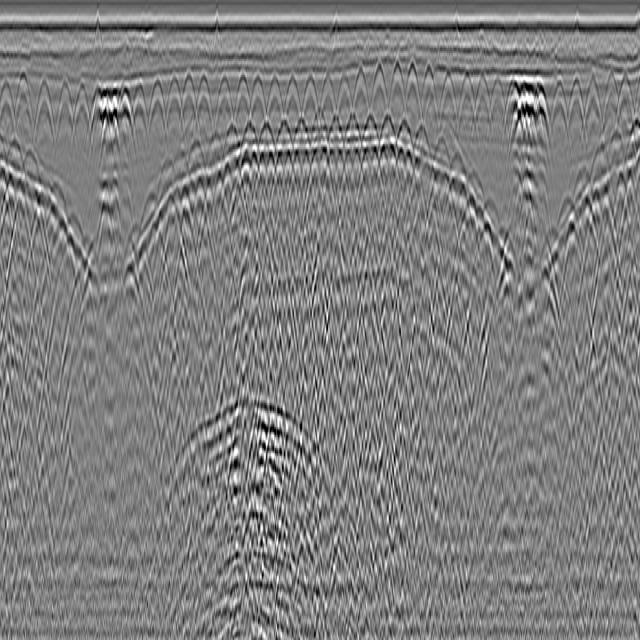hyperbola: (50, 74, 80, 175), (32, 76, 61, 175), (468, 70, 495, 152), (483, 72, 509, 151), (563, 72, 589, 149), (175, 70, 199, 149), (546, 76, 571, 151), (145, 77, 170, 151), (162, 70, 186, 144), (68, 80, 93, 151), (9, 71, 35, 139), (457, 75, 481, 146), (580, 71, 604, 141), (126, 81, 151, 148), (115, 82, 138, 153), (436, 66, 460, 133), (191, 70, 214, 138), (418, 62, 439, 133), (601, 72, 623, 139), (552, 191, 582, 240), (569, 167, 594, 221), (214, 68, 234, 131), (298, 74, 320, 130), (587, 142, 612, 191), (403, 60, 422, 121), (614, 71, 634, 128), (3, 133, 26, 181), (388, 59, 407, 116), (234, 71, 254, 125), (316, 74, 335, 130), (19, 147, 41, 194), (540, 223, 563, 266), (247, 71, 267, 120), (605, 126, 624, 174), (0, 80, 17, 133), (369, 64, 388, 111), (351, 65, 369, 114), (266, 72, 284, 120), (284, 73, 302, 120), (434, 134, 453, 176), (414, 122, 432, 158), (222, 124, 239, 162), (626, 114, 639, 163), (395, 116, 413, 150), (449, 148, 466, 184), (258, 114, 274, 151), (344, 110, 360, 147), (275, 118, 294, 149), (310, 108, 327, 142), (336, 70, 352, 106), (328, 109, 344, 144), (294, 114, 310, 145), (242, 121, 259, 150), (362, 115, 378, 145), (380, 111, 395, 143)
